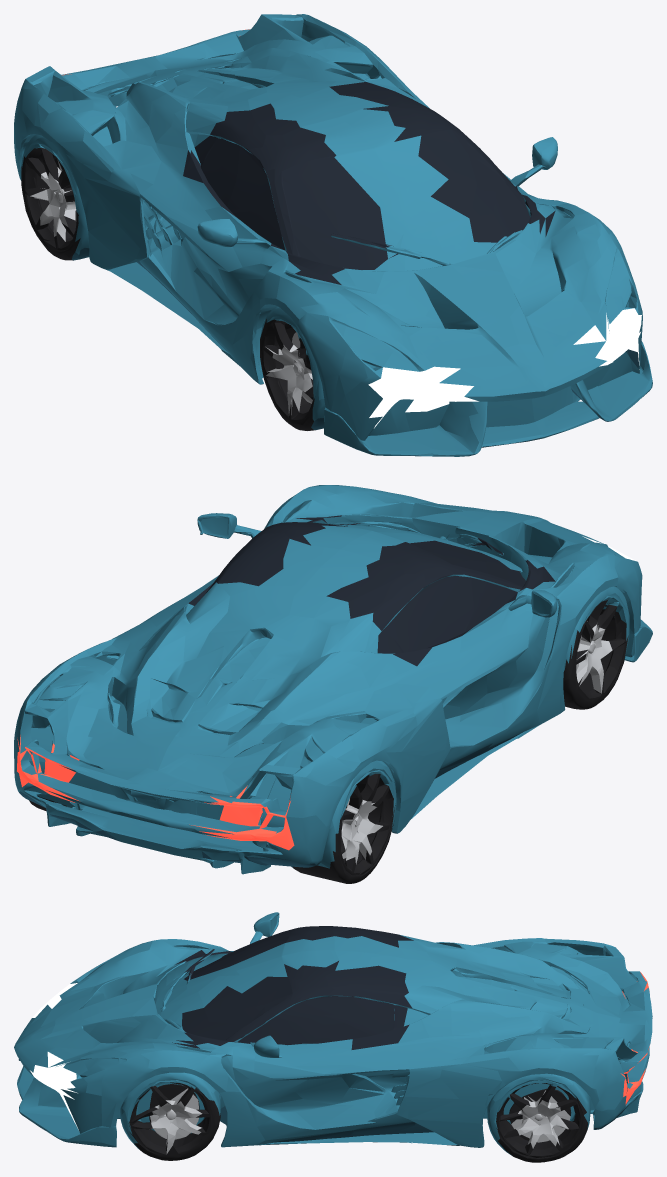
Rendered from hypercar.glb.
The picture shows the model from 3 angles, top to bottom: view 1: azimuth 30°, elevation 25°; view 2: azimuth 150°, elevation 25°; view 3: azimuth 270°, elevation 25°; orthographic projection. The views are drawn at different scales.
Visible parts, largest first — view 1: output_unwrapped; view 2: output_unwrapped; view 3: output_unwrapped.
Part boxes in pixels (bbox=[...]): output_unwrapped: bbox=[14, 14, 652, 456]; output_unwrapped: bbox=[14, 485, 652, 883]; output_unwrapped: bbox=[14, 912, 652, 1162].
Size of the model in its own units: 0.9561 by 0.5067 by 1.9.
